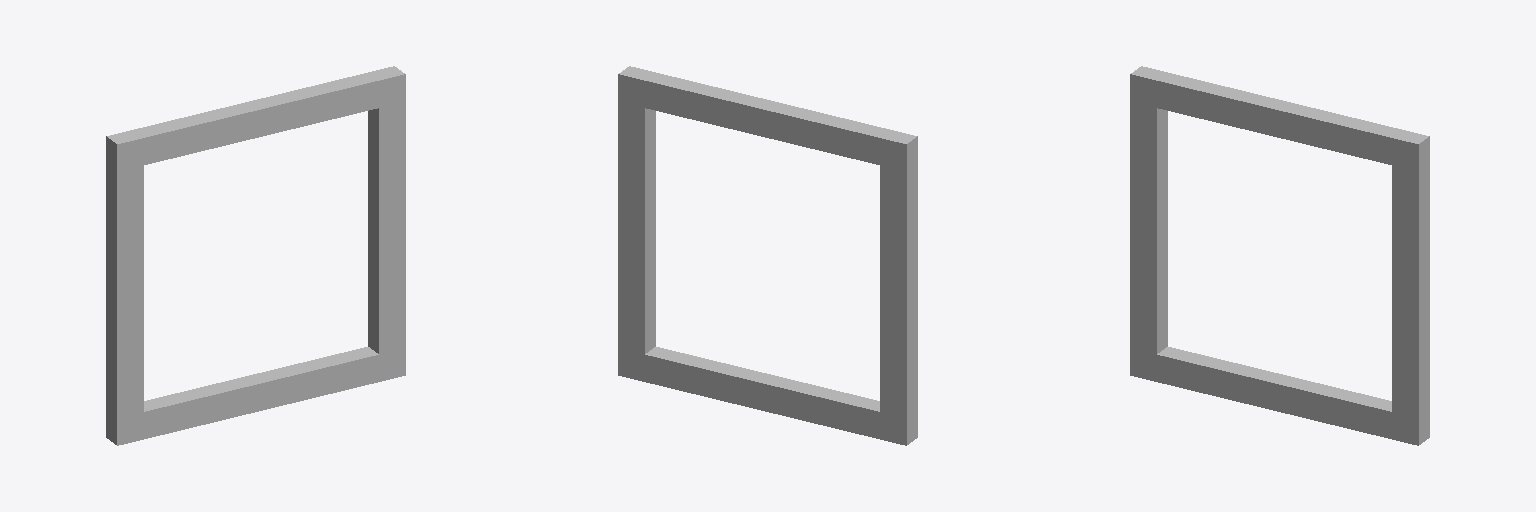
The model's file is frame.obj.
3 renders of one model, left to right at view 1: azimuth 30°, elevation 25°; view 2: azimuth 150°, elevation 25°; view 3: azimuth 330°, elevation 25°, orthographic.
Visible parts, largest first — view 1: Plane; view 2: Plane; view 3: Plane.
Boxes of the visible parts, box(x1,y1,x2,y2) form: Plane: box(106, 66, 405, 445); Plane: box(618, 66, 917, 445); Plane: box(1130, 66, 1429, 445).
Size of the model in its own units: 8 by 8 by 0.5335.